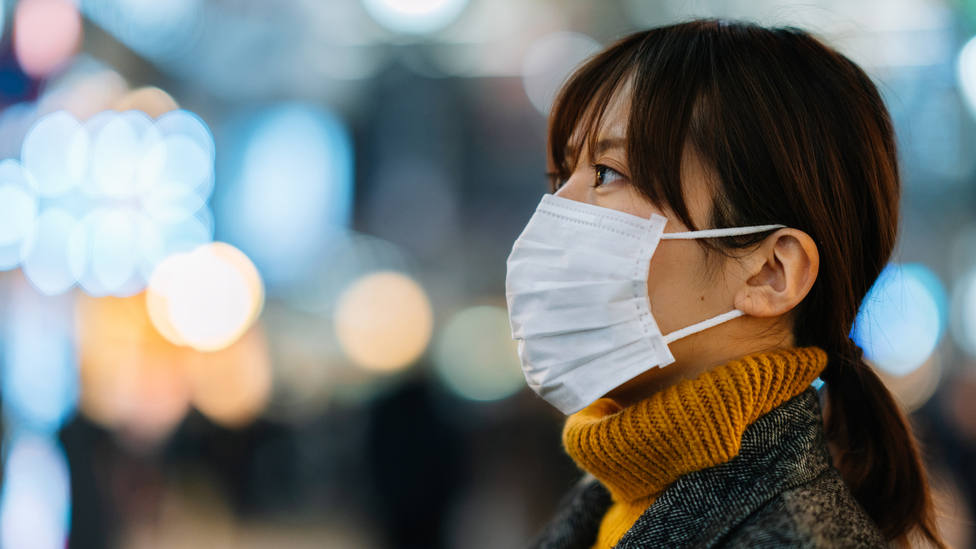with_mask: (516, 70, 809, 416)
